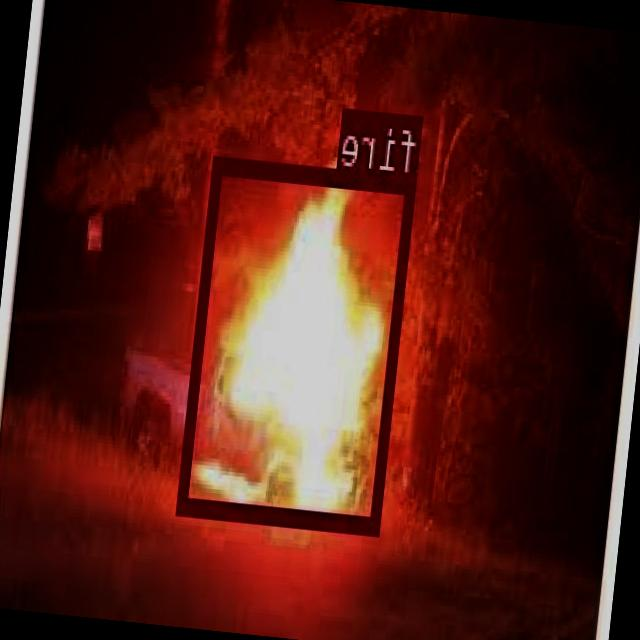fire: (180, 152, 418, 530)
